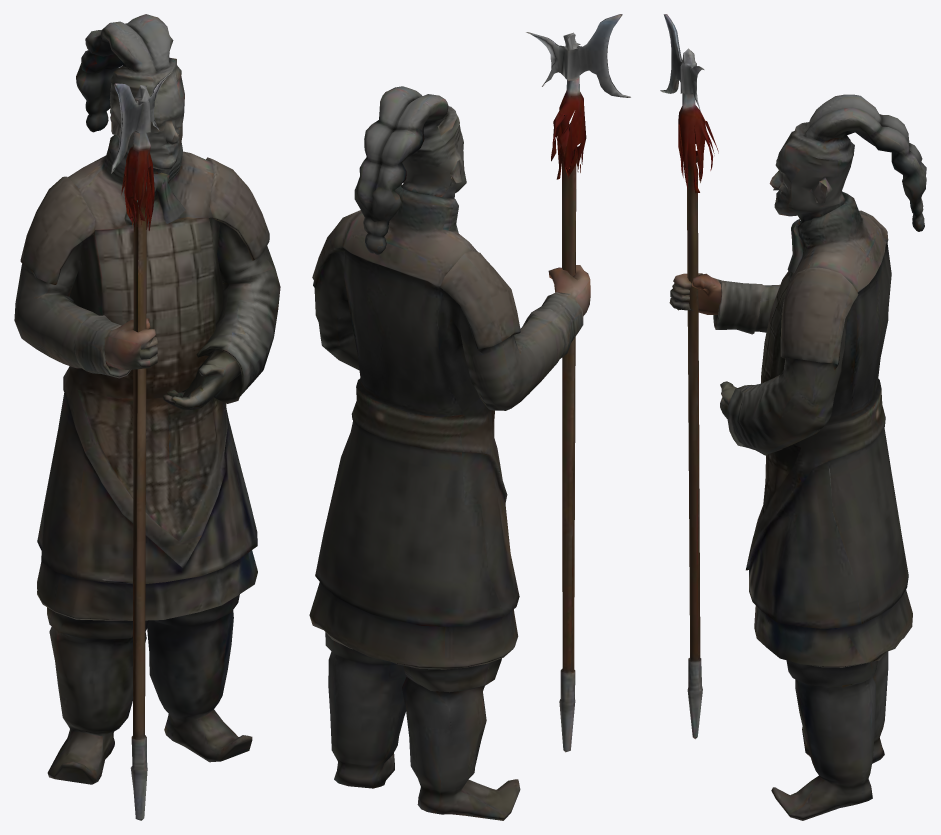
File: warrior_qin_terracotta.glb
The picture shows the model from 3 angles, left to right: view 1: azimuth 30°, elevation 25°; view 2: azimuth 150°, elevation 25°; view 3: azimuth 270°, elevation 25°; orthographic projection. The views are drawn at different scales.
Parts seen in each view (by area): view 1: warrior_qin_terracotta; view 2: warrior_qin_terracotta; view 3: warrior_qin_terracotta.
Part boxes in pixels (x1,y1,x2,y2): warrior_qin_terracotta: (14,14,280,820); warrior_qin_terracotta: (309,14,630,820); warrior_qin_terracotta: (660,14,926,820).
Size of the model in its own units: 0.1494 by 0.4536 by 0.1523.
Materials: 1 (1 with a texture image).
